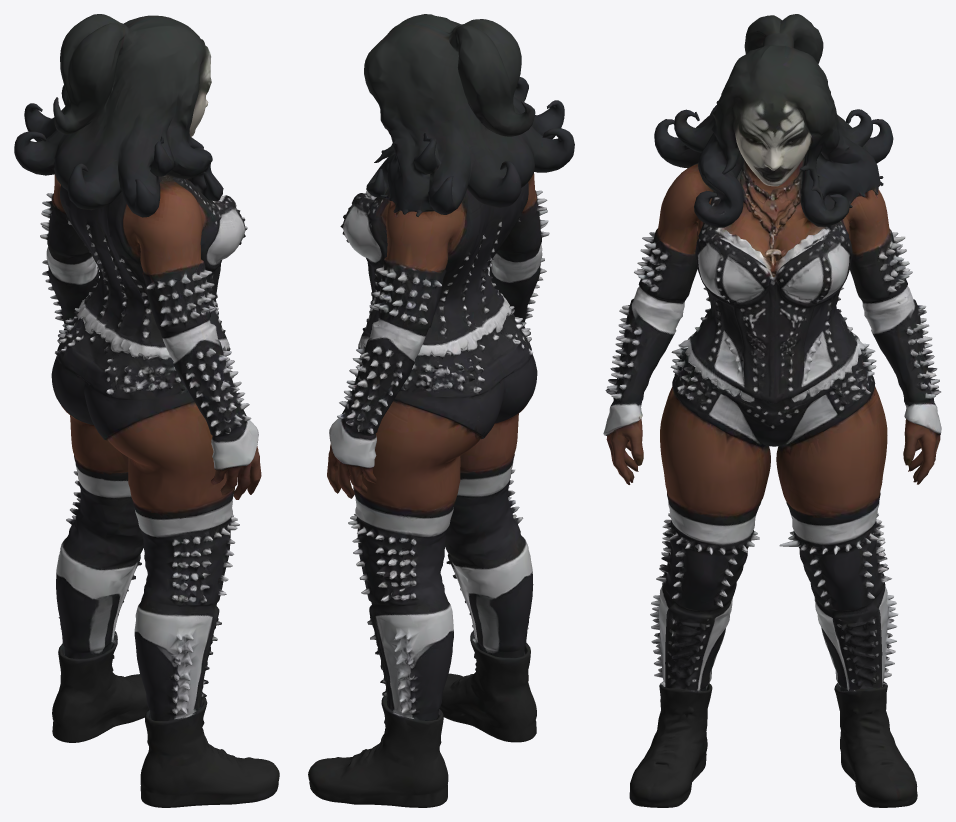
The model's file is ONYX_corset_rigready.glb.
3 views of the same model, side by side, from view 1: azimuth 30°, elevation 25°; view 2: azimuth 150°, elevation 25°; view 3: azimuth 270°, elevation 25° (orthographic).
Visible parts, largest first — view 1: chest, knL, elL, hipL, knR, head, shL, ftL, pelvis, ftR, hipR, elR (+1 smaller); view 2: chest, knR, knL, shR, elR, hipR, head, ftR, pelvis, elL, ftL, shL (+1 smaller); view 3: chest, elR, elL, knR, knL, head, shR, pelvis, shL, hipL, ftL, haR (+3 smaller).
Part boxes in pixels (box(x1,y1,x2,y2)): chest: box(14, 62, 247, 296); knL: box(132, 476, 239, 745); elL: box(83, 218, 251, 435); hipL: box(91, 389, 261, 545); knR: box(56, 423, 143, 697); head: box(60, 14, 210, 142); shL: box(80, 87, 239, 339); ftL: box(140, 672, 279, 807); pelvis: box(53, 249, 138, 500); ftR: box(52, 620, 148, 742); hipR: box(46, 240, 127, 497); elR: box(42, 231, 114, 330); chest: box(340, 66, 574, 293); knR: box(348, 476, 453, 745); knL: box(445, 428, 533, 699); shR: box(347, 71, 509, 348); elR: box(327, 242, 469, 480); hipR: box(327, 319, 495, 544); head: box(364, 14, 521, 145); ftR: box(308, 679, 448, 807); pelvis: box(444, 254, 536, 498); elL: box(470, 231, 546, 379); ftL: box(439, 631, 536, 742); shL: box(480, 79, 564, 278); chest: box(679, 87, 869, 306); elR: box(778, 250, 941, 500); elL: box(605, 247, 775, 423); knR: box(780, 479, 898, 729); knL: box(650, 492, 759, 732); head: box(719, 14, 829, 145); shR: box(786, 85, 918, 344); pelvis: box(711, 295, 826, 546); shL: box(634, 104, 763, 329); hipL: box(603, 397, 751, 548); ftL: box(629, 650, 707, 807); haR: box(796, 439, 880, 542).
Bounding box in the file's own units: 0.2511 × 1 × 0.412.
1 material, 1 textured.
